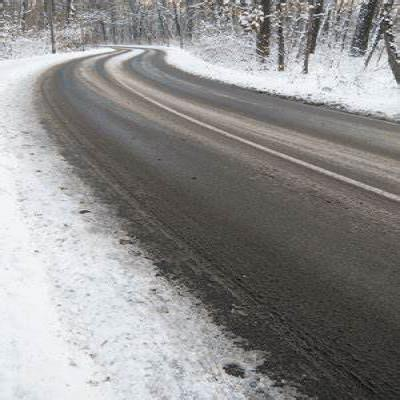iced-road: (43, 49, 400, 400)
